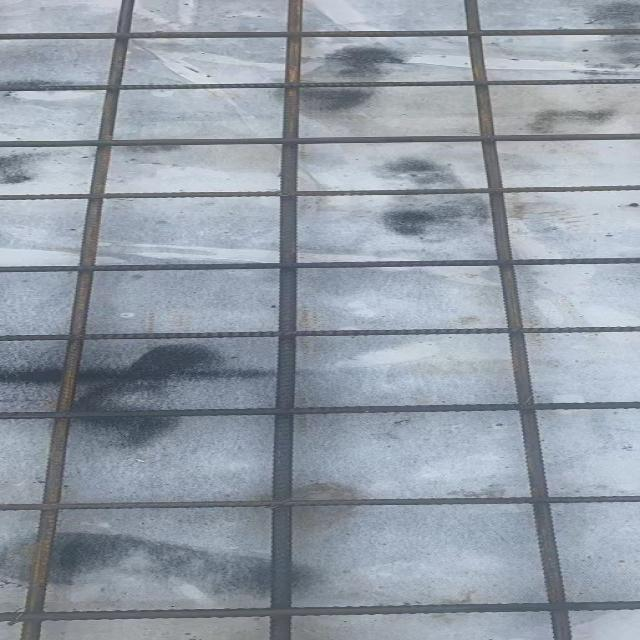ribbed bar: (453, 0, 578, 639), (16, 0, 137, 639), (263, 0, 305, 639), (0, 599, 638, 621), (0, 400, 638, 419), (0, 183, 638, 201), (0, 325, 638, 342), (0, 257, 638, 273), (0, 132, 638, 147), (0, 495, 638, 510), (0, 78, 638, 91), (0, 28, 638, 39)
